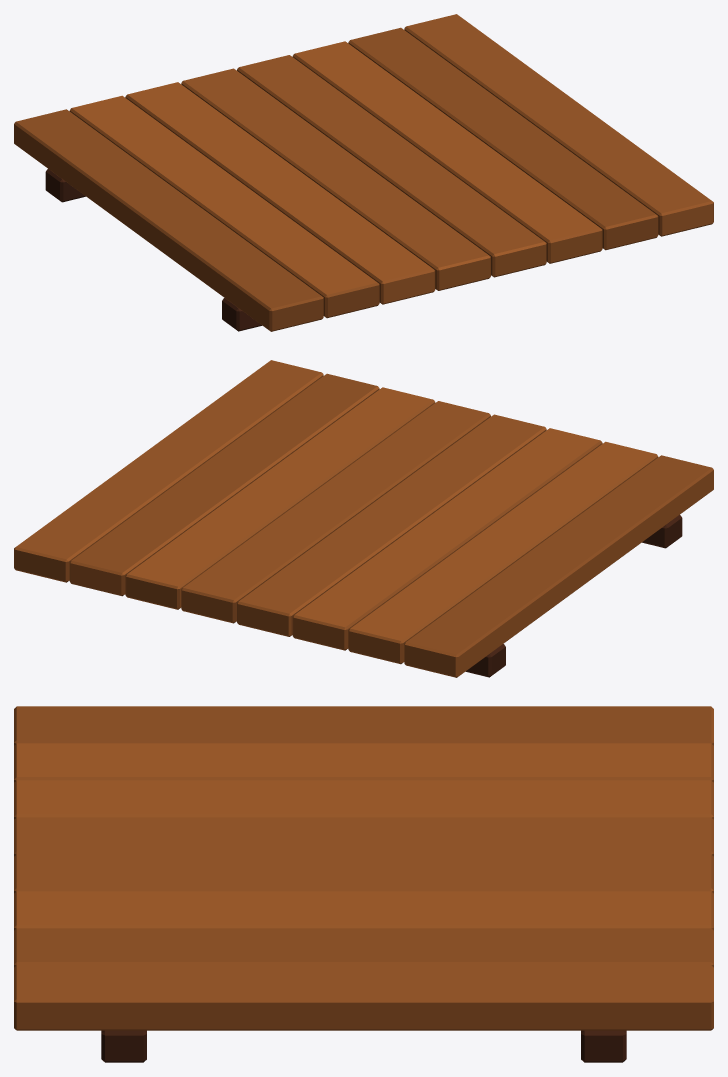
File: A08_Floor_Wood_2m.fbx
3 renders of one model, top to bottom at view 1: azimuth 30°, elevation 25°; view 2: azimuth 150°, elevation 25°; view 3: azimuth 270°, elevation 25°, orthographic. The views are drawn at different scales.
Visible parts, largest first — view 1: A08_Floor_Wood_2m; view 2: A08_Floor_Wood_2m; view 3: A08_Floor_Wood_2m.
Boxes of the visible parts, x1,y1,x2,y2 form: A08_Floor_Wood_2m: [14, 14, 713, 331]; A08_Floor_Wood_2m: [14, 360, 713, 677]; A08_Floor_Wood_2m: [14, 706, 713, 1062].
Size of the model in its own units: 2 by 0.2 by 2.
2 materials, 2 textured.
